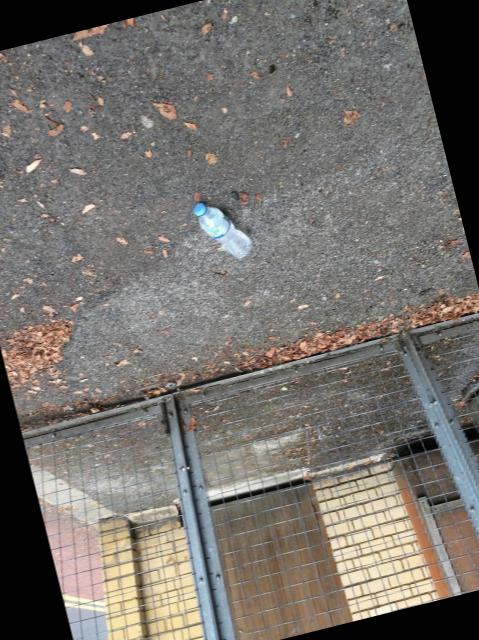plastic: (192, 203, 251, 258)
